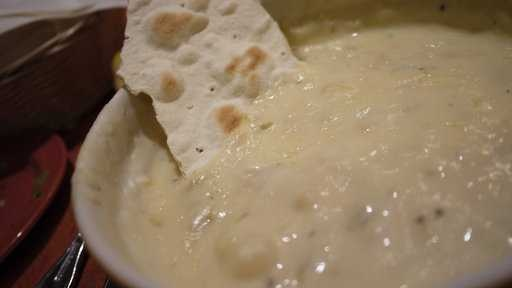soup: (76, 3, 511, 285)
